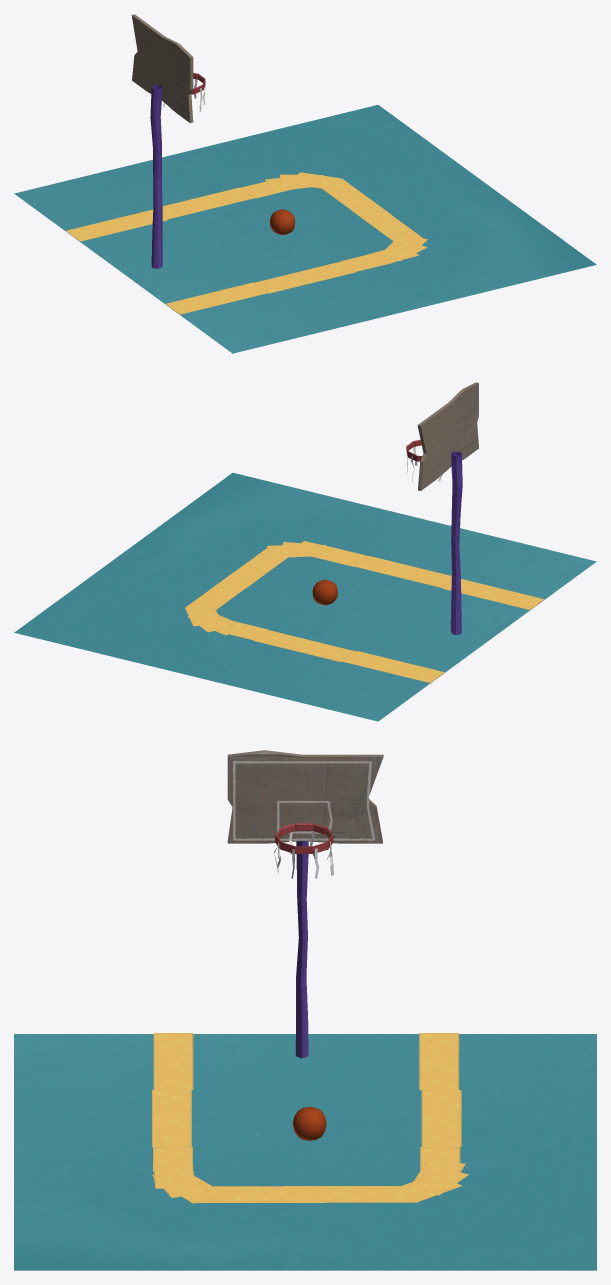
File: 3D_Basketball Court.fbx
The picture shows the model from 3 angles, top to bottom: view 1: azimuth 30°, elevation 25°; view 2: azimuth 150°, elevation 25°; view 3: azimuth 270°, elevation 25°; orthographic projection. The views are drawn at different scales.
Parts seen in each view (by area): view 1: AN_3D_BasketballCourt; view 2: AN_3D_BasketballCourt; view 3: AN_3D_BasketballCourt.
Boxes of the visible parts, x1,y1,x2,y2 form: AN_3D_BasketballCourt: (14, 14, 596, 353); AN_3D_BasketballCourt: (14, 382, 596, 721); AN_3D_BasketballCourt: (14, 750, 596, 1270).
Bounding box in the file's own units: 1786 × 1092 × 1857.
Materials: 7 (6 with a texture image).
